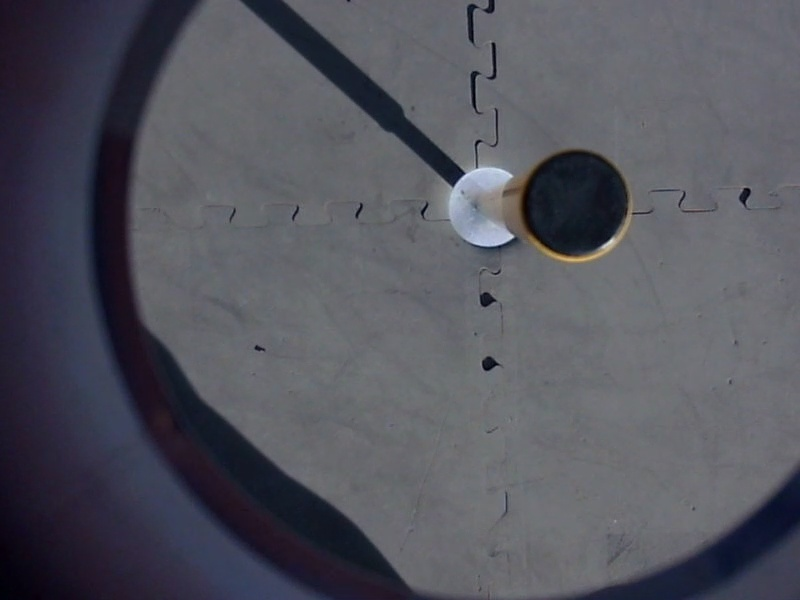tip: (511, 143, 639, 269)
